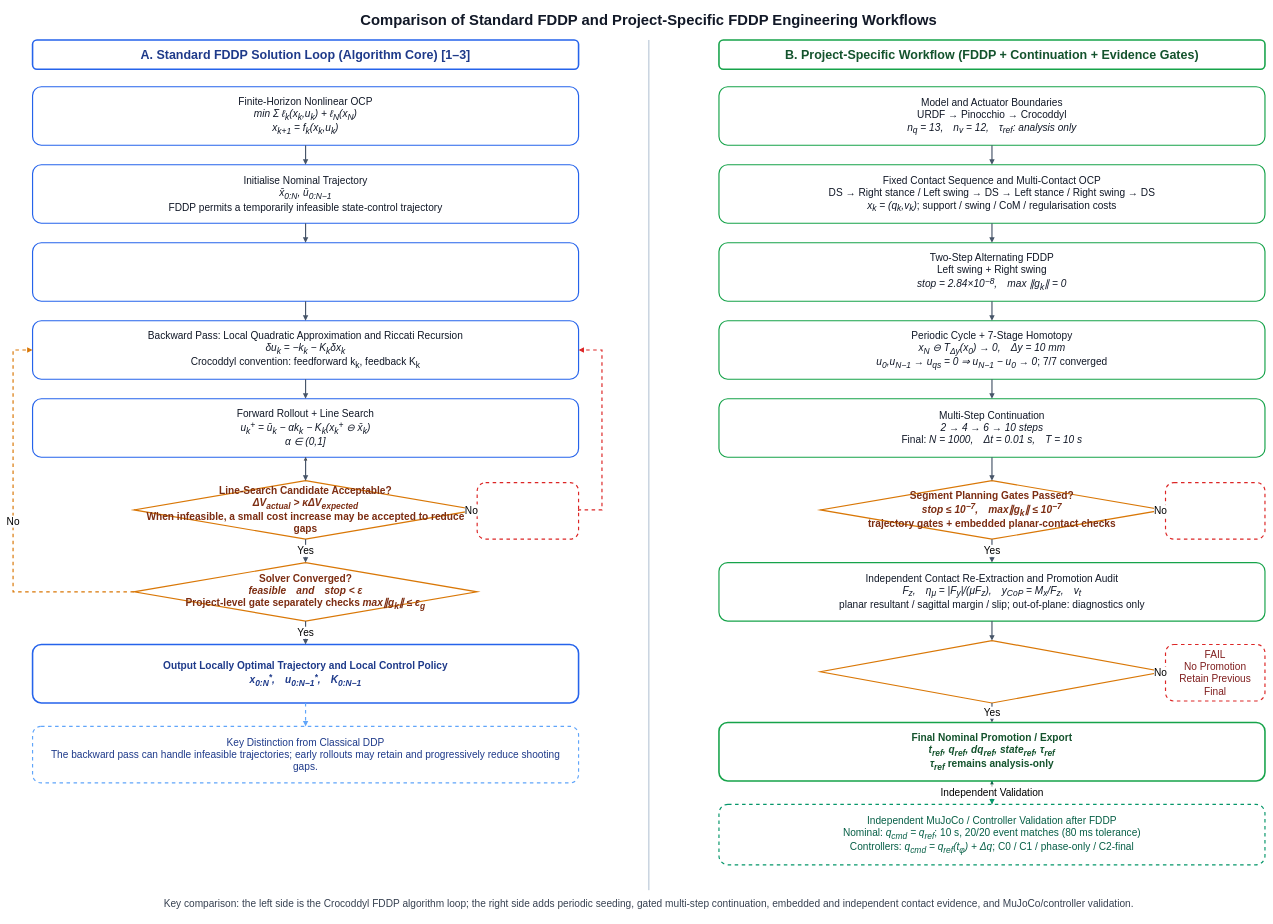
Image size: 1273x924. Some labels were removed from this diagram. The shapes that lost their labels are listed below. From the top down, each one's centre as x and y in pixels, then its label:
(x=305, y=272): Evaluate Cost and Shooting Gaps J(x̄,ū), g k+1 = f k (x̄ k ,ū k ) ⊖ x̄ k+1
(x=527, y=511): Reject Candidate α ↓, λ reg ↑ Repeat backward pass
(x=1215, y=511): FAIL Stop Current Ladder No New Candidate
(x=992, y=671): Contact Gates Passed? F z > 0, η μ ≤ 0.90 margin CoP ≥ 2 mm, v t ≤ 10 −3 m/s
